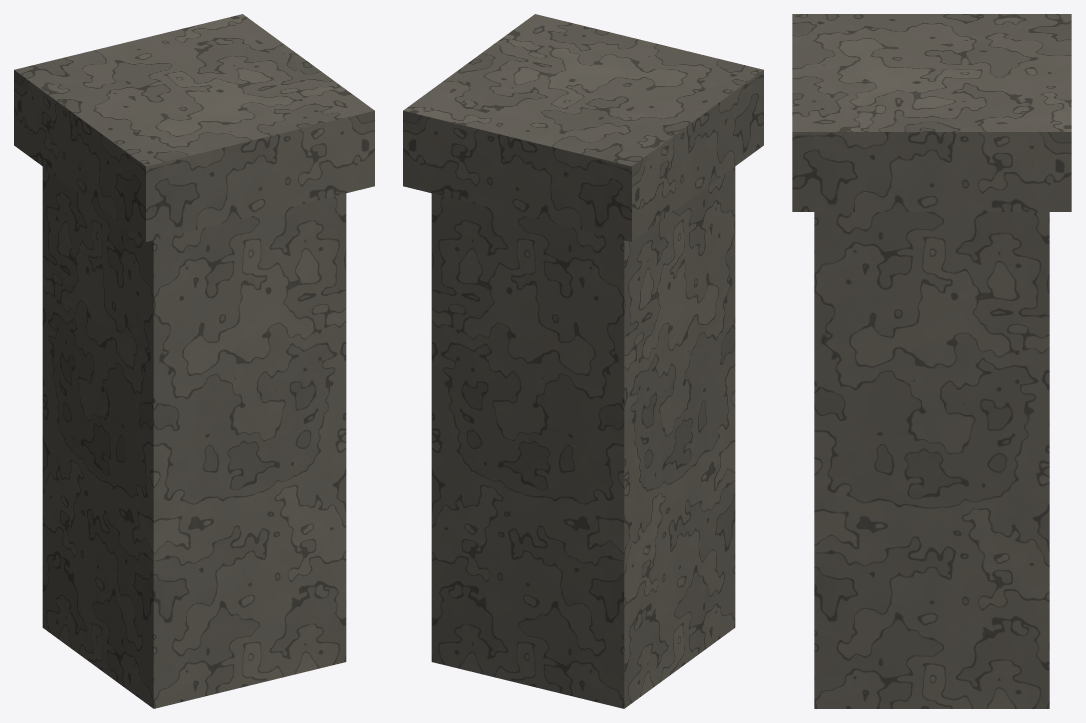
The model's file is chimney_stack_short.glb.
3 views of the same model, side by side, from view 1: azimuth 30°, elevation 25°; view 2: azimuth 150°, elevation 25°; view 3: azimuth 270°, elevation 25° (orthographic). The views are drawn at different scales.
Parts seen in each view (by area): view 1: chimney_stack_short; view 2: chimney_stack_short; view 3: chimney_stack_short.
Part boxes in pixels (<box>): chimney_stack_short: <box>14,14,374,708</box>; chimney_stack_short: <box>403,14,763,708</box>; chimney_stack_short: <box>792,14,1071,708</box>.
Size of the model in its own units: 0.95 by 2.2 by 0.95.
1 material, 1 textured.
